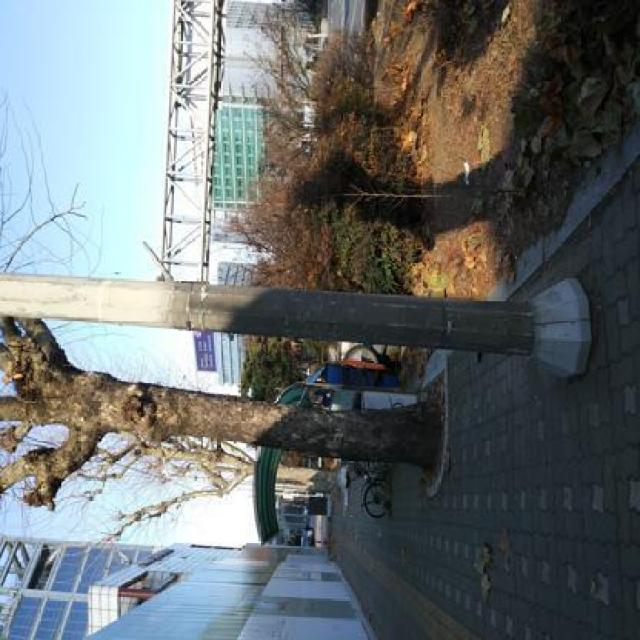pole: (0, 260, 600, 402)
